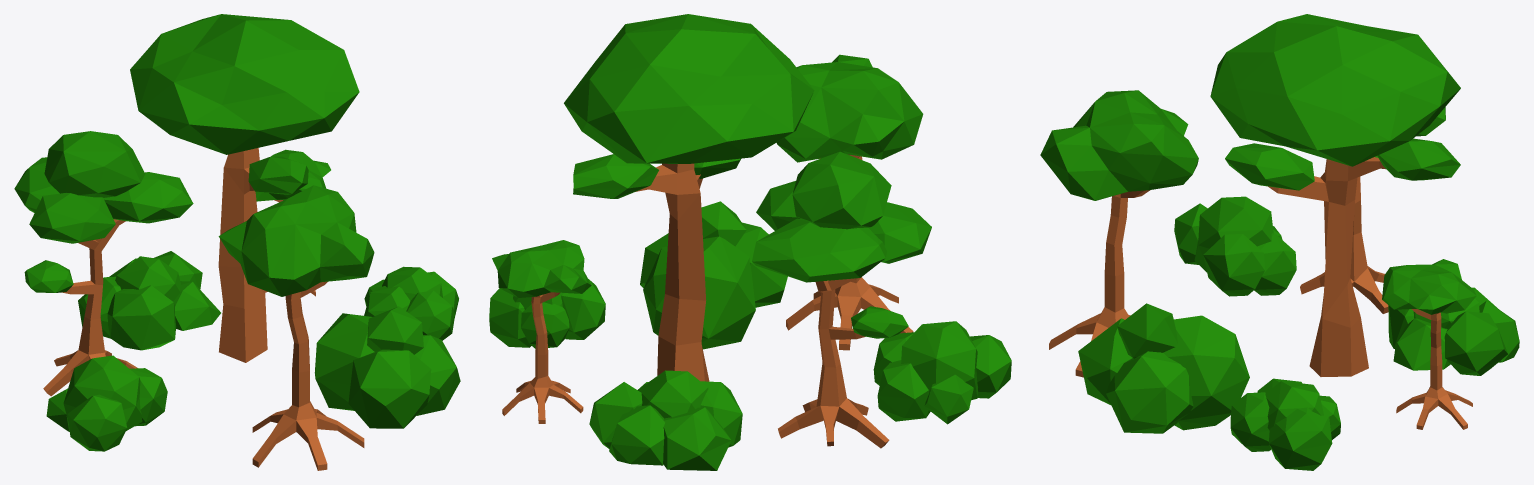
The model's file is vegetation.fbx.
3 views of the same model, side by side, from view 1: azimuth 30°, elevation 25°; view 2: azimuth 150°, elevation 25°; view 3: azimuth 270°, elevation 25° (orthographic). The views are drawn at different scales.
Parts seen in each view (by area): view 1: vegetation; view 2: vegetation; view 3: vegetation.
Boxes of the visible parts, left/top/right/bottom form: vegetation: left=14, top=14, right=460, bottom=470; vegetation: left=489, top=14, right=1011, bottom=470; vegetation: left=1040, top=14, right=1519, bottom=470.
Bounding box in the file's own units: 609 × 479 × 559.
